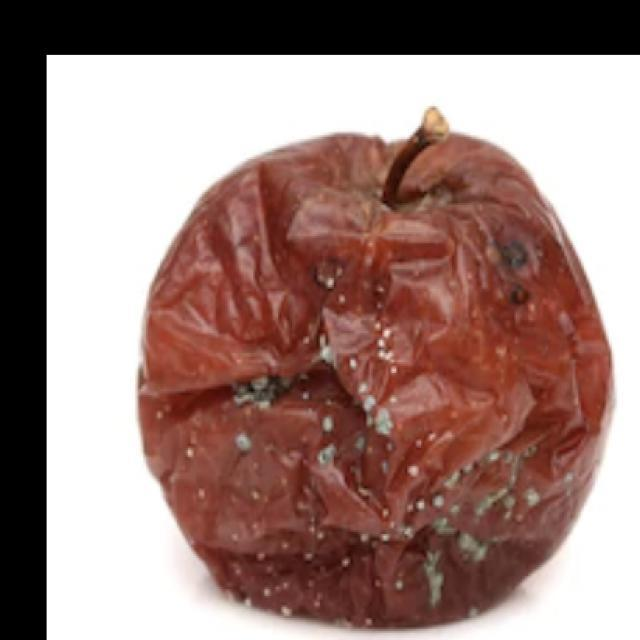Rotten: (146, 130, 640, 640)
